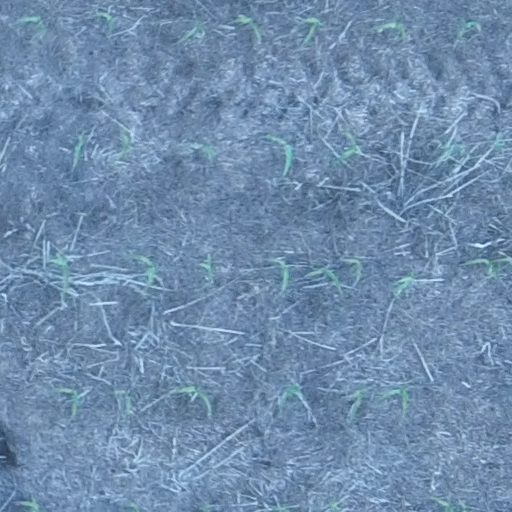planta: (379, 384, 411, 420), (174, 383, 214, 411), (49, 251, 72, 297), (267, 133, 294, 171), (129, 253, 158, 288), (307, 265, 344, 292), (333, 137, 362, 166), (271, 257, 291, 295), (452, 19, 482, 44), (173, 23, 205, 45), (339, 257, 361, 288), (90, 10, 115, 36), (373, 18, 407, 36), (302, 15, 323, 44), (393, 271, 417, 296), (463, 258, 495, 276), (112, 389, 134, 415), (114, 132, 133, 161), (351, 385, 367, 418), (60, 388, 78, 417), (236, 14, 261, 32), (17, 14, 44, 28), (72, 135, 85, 164), (201, 255, 215, 276)
